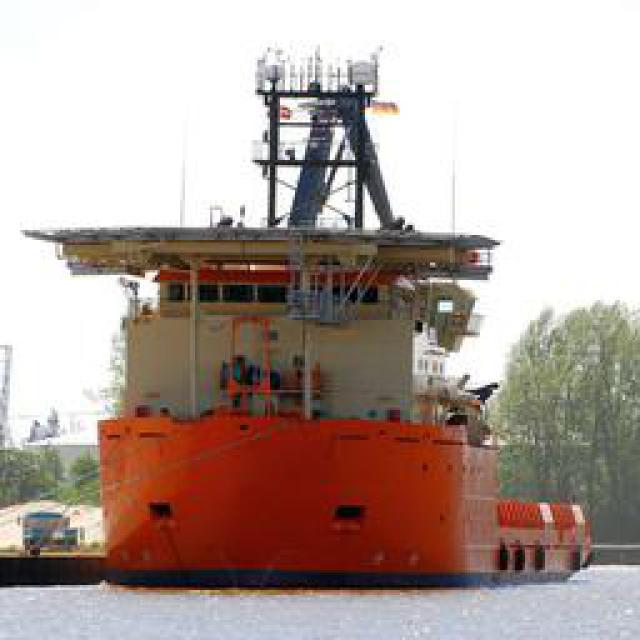Ship: (72, 107, 565, 600)
